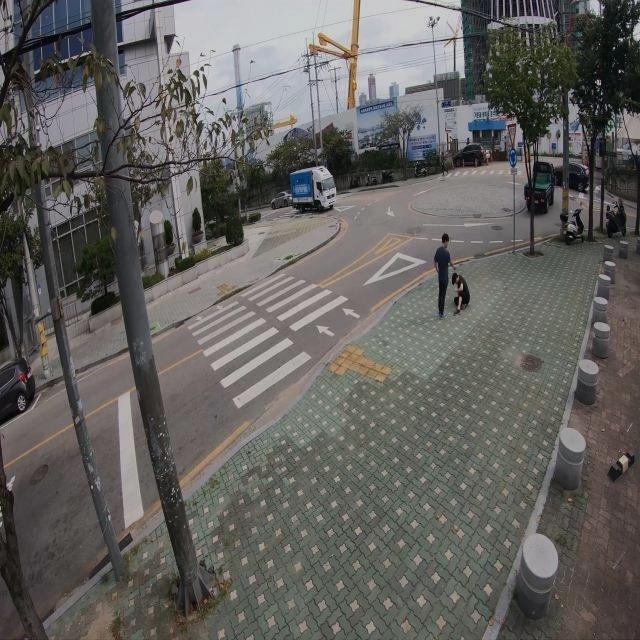fight: (433, 229, 456, 317)
non-fight: (452, 271, 470, 312)
